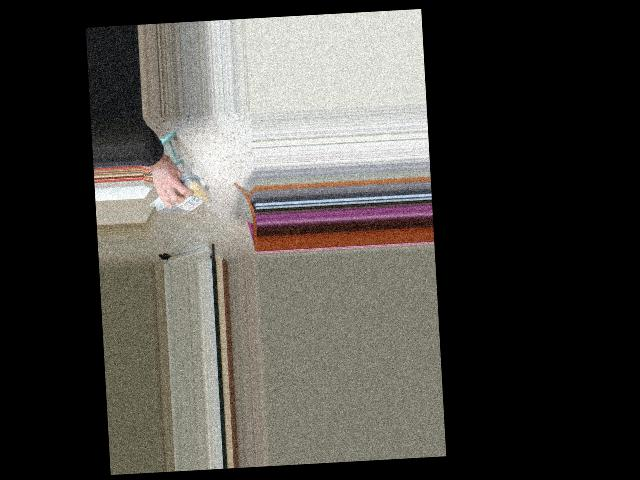cheese: (152, 182, 216, 213)
